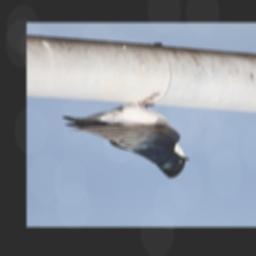Swallow: (61, 91, 189, 178)
